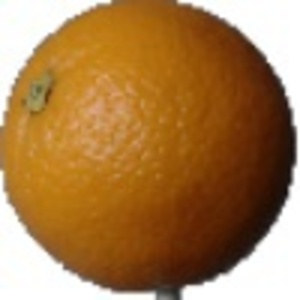laranja: (1, 2, 299, 298)
